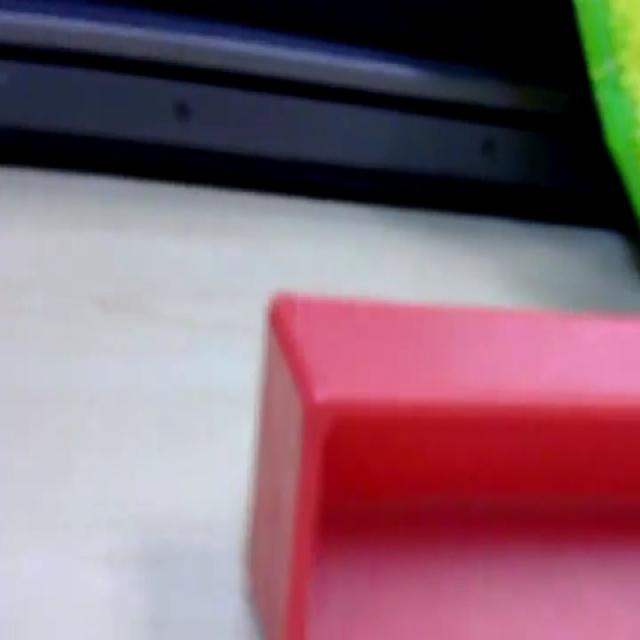red_block: (246, 285, 639, 636)
